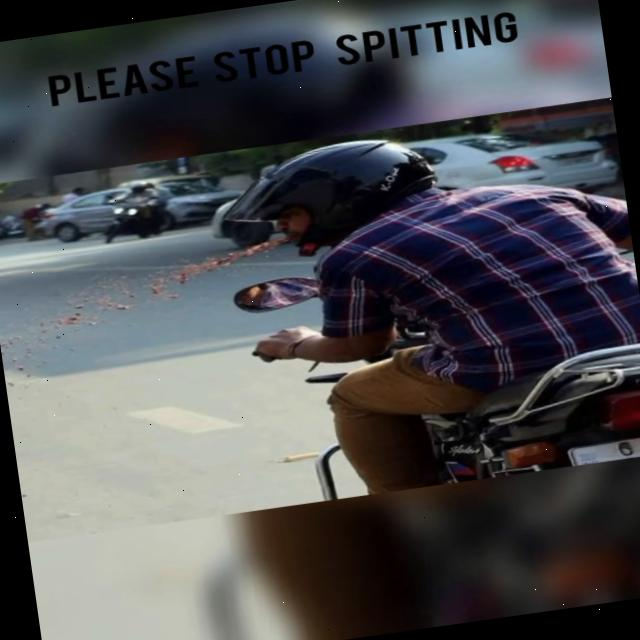spit: (0, 200, 309, 430)
